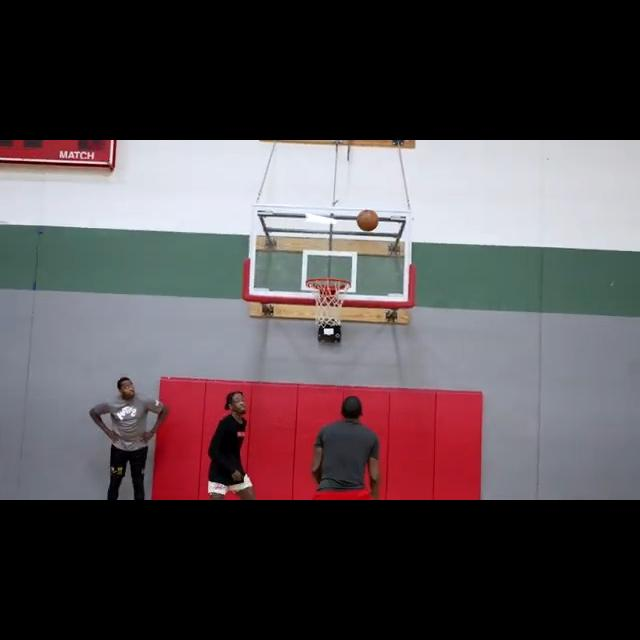basketball: (356, 208, 381, 233)
hoop: (305, 278, 353, 329)
